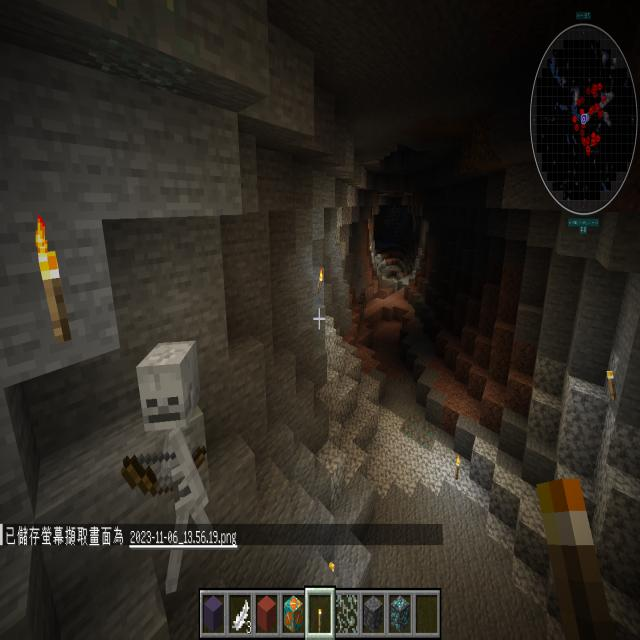Skeleton: (106, 327, 241, 607), (358, 281, 371, 324), (372, 249, 387, 281)
